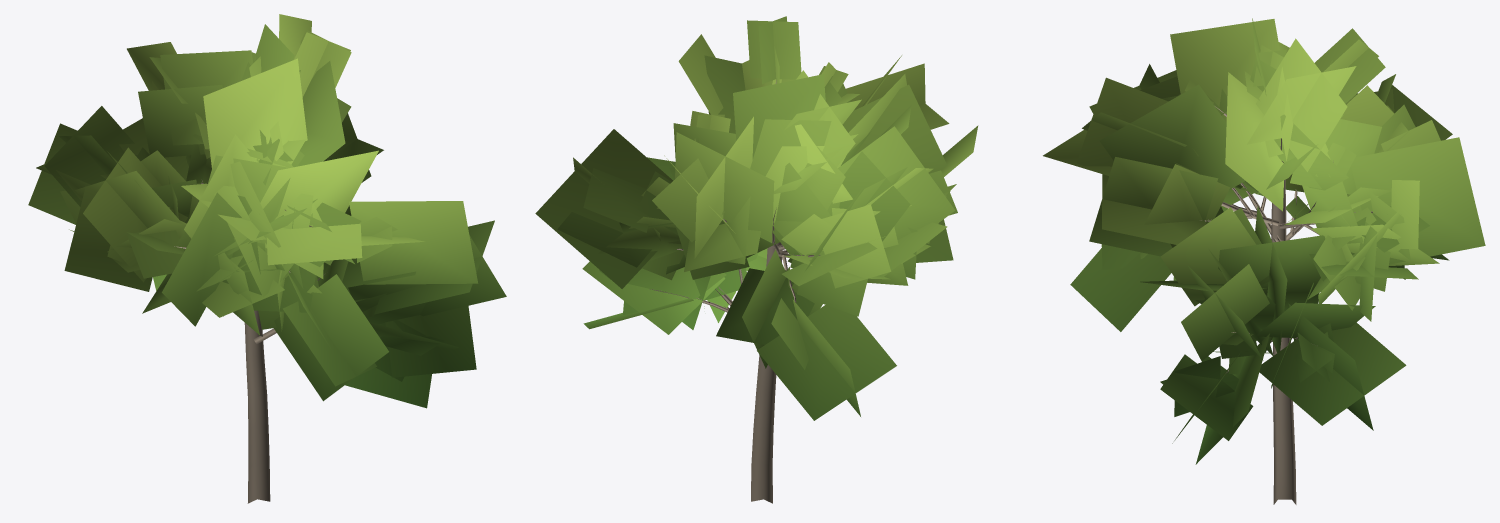
File: aspen.glb
3 renders of one model, left to right at view 1: azimuth 30°, elevation 25°; view 2: azimuth 150°, elevation 25°; view 3: azimuth 270°, elevation 25°, orthographic.
Parts seen in each view (by area): view 1: aspen; view 2: aspen; view 3: aspen.
Boxes of the visible parts, x1=… form: aspen: x1=28, y1=14, x2=506, y2=503; aspen: x1=535, y1=16, x2=978, y2=503; aspen: x1=1043, y1=18, x2=1485, y2=504.
Size of the model in its own units: 8.13 by 10 by 8.41.
